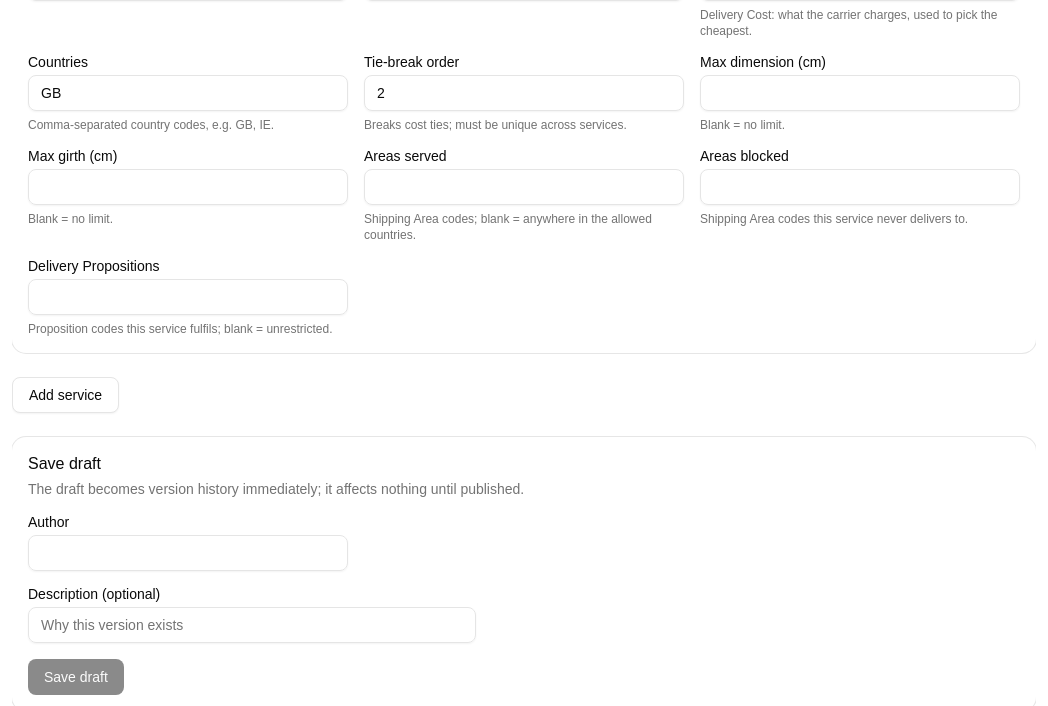
Test: DraftEditorPage › can add and remove services
(page scrolled)
Type "jake" into the field labelled "Author" at (188, 553), box [28,535,348,571]
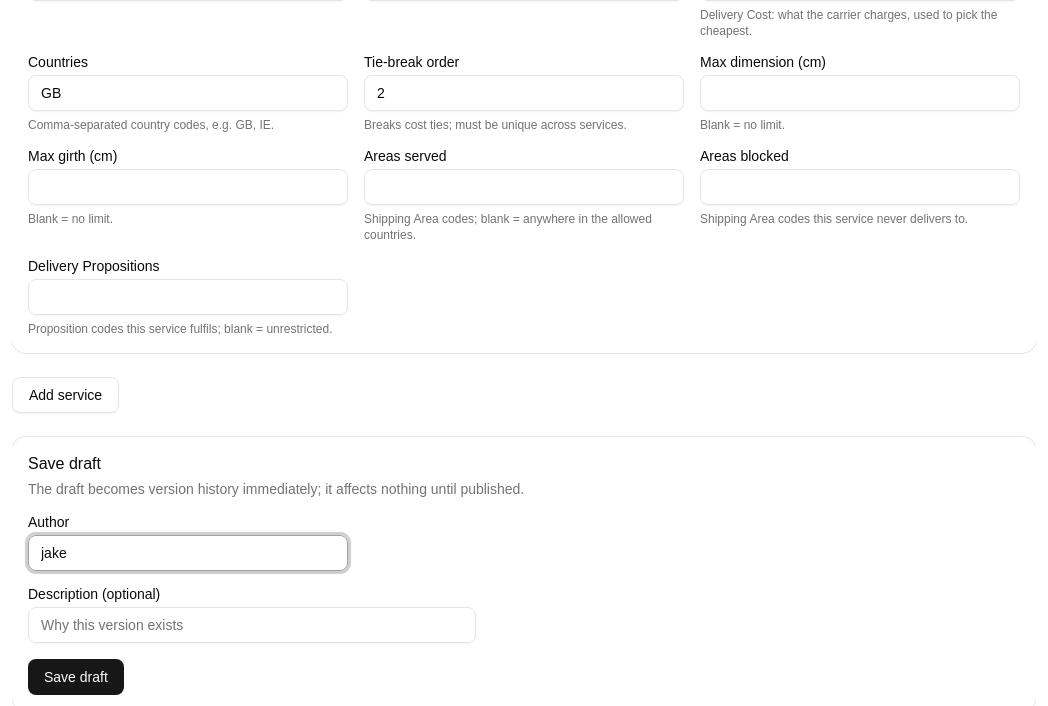
Click the button "Add service" at (66, 395), box [12,377,119,413]
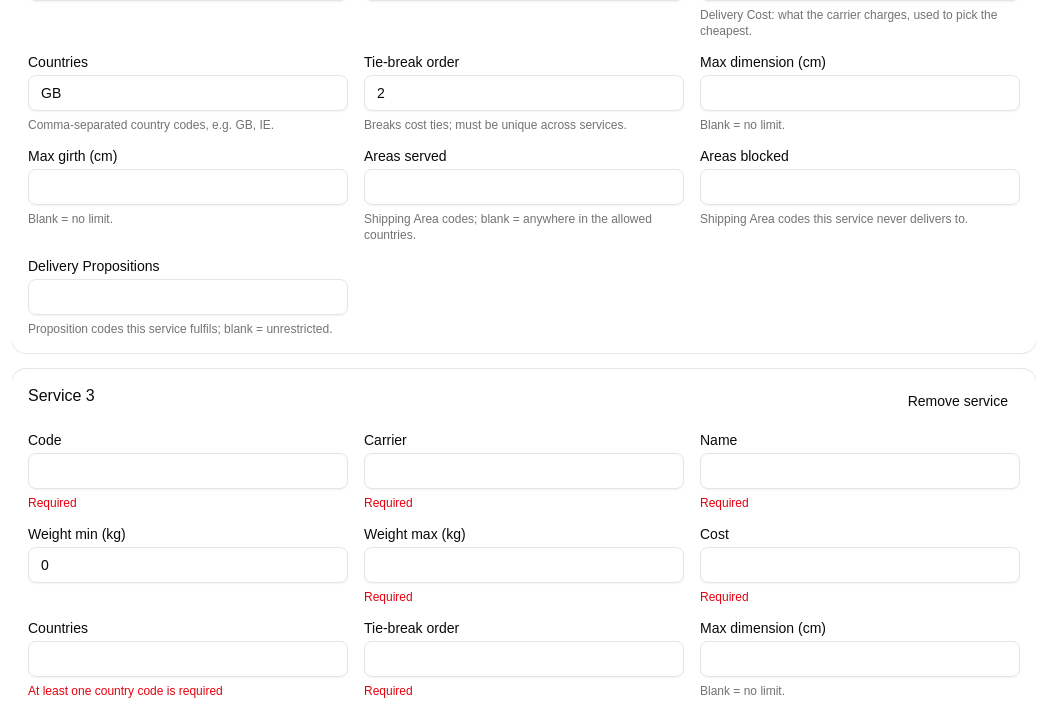
Expected: the number of fields labelled "code" is 3
Click the button "Remove service" at (958, 401), box [896,385,1020,417]
(page scrolled)
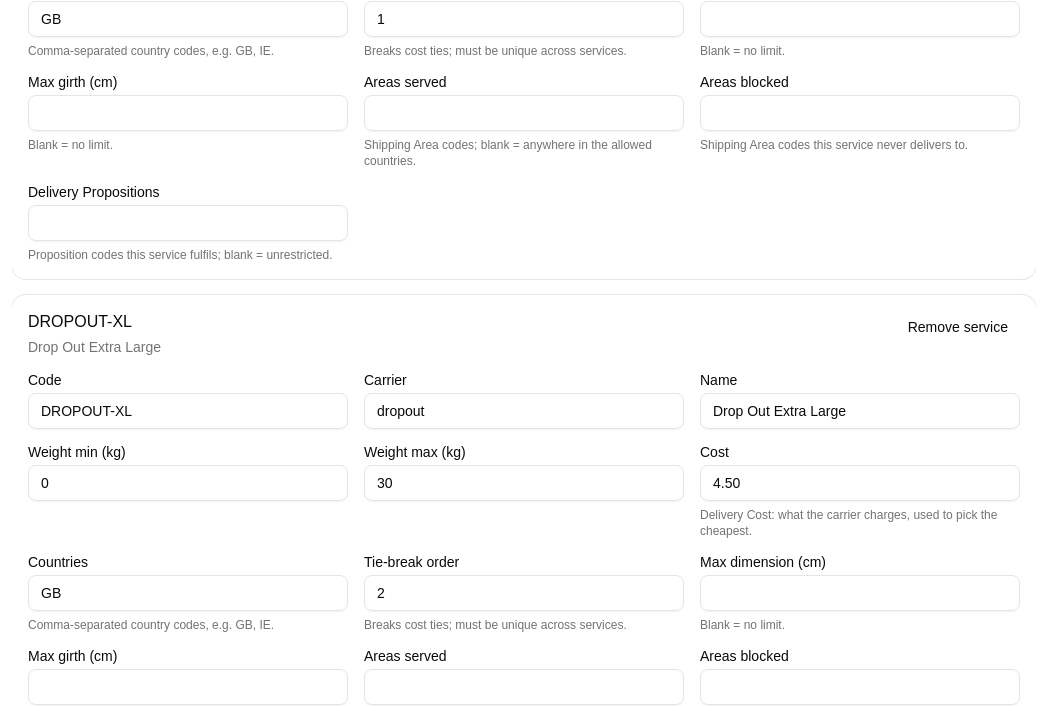
Click the button "Remove service" at (958, 327), box [896,311,1020,343]
(page scrolled)
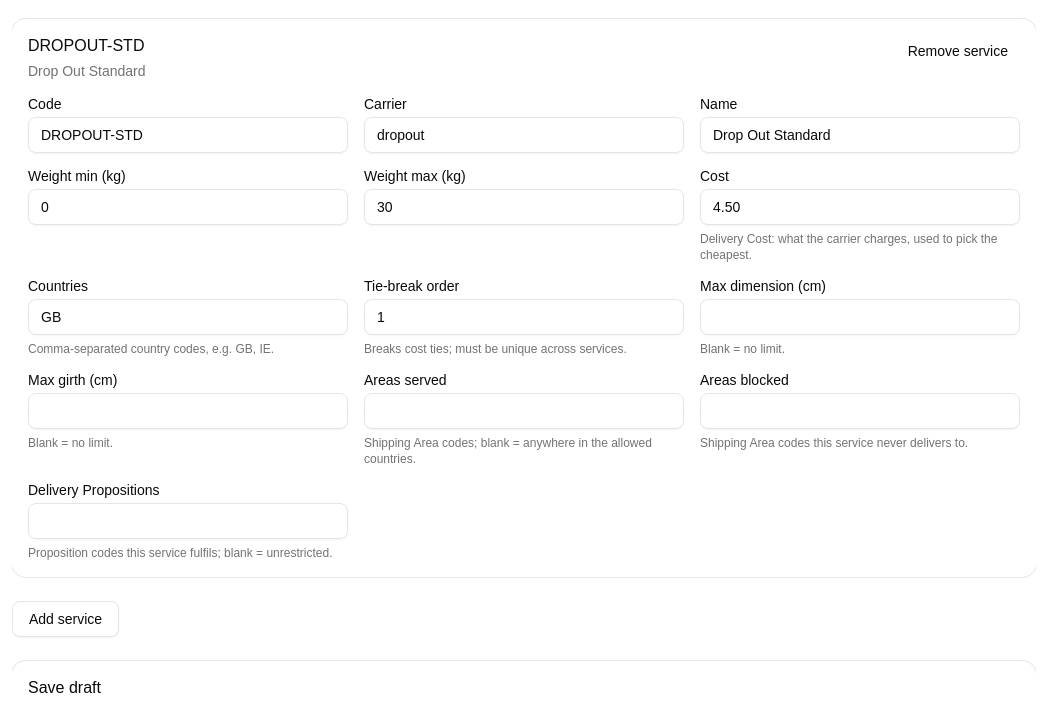
Click the button "Remove service" at (958, 51), box [896,35,1020,67]
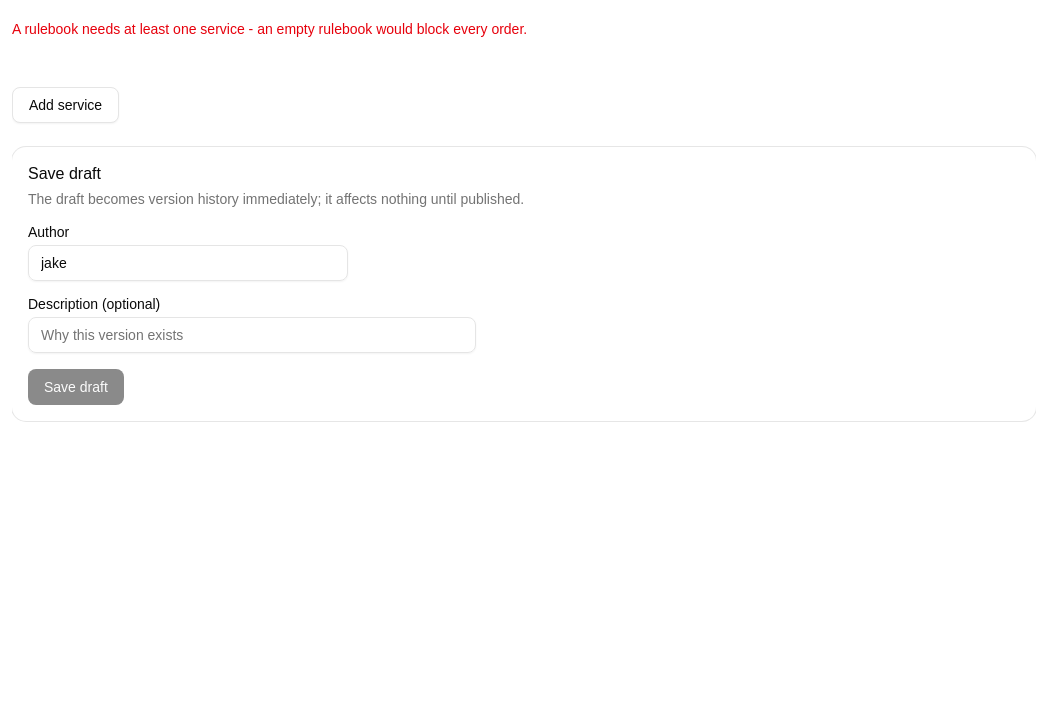
Expected: the text "at least one service" is shown, [12,21,527,37]
Expected: the button "Save draft" is disabled, [28,369,124,405]
